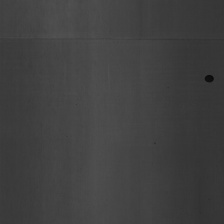punching_hole: (1, 32, 222, 47), (203, 73, 215, 85)
